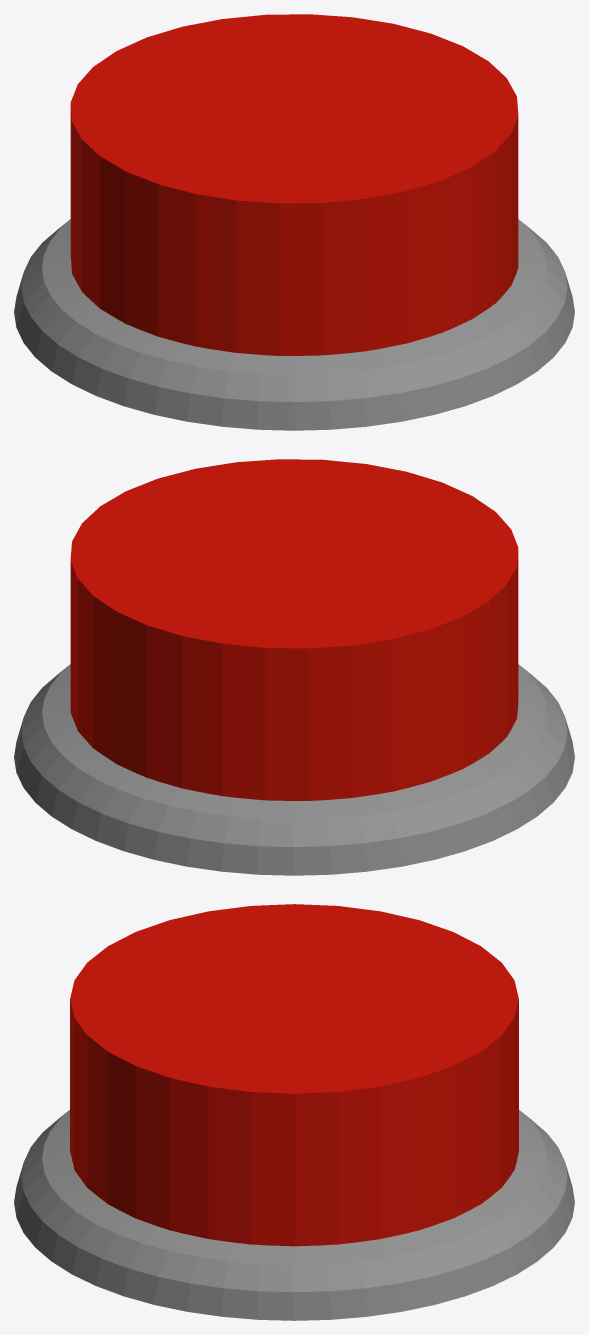
Rendered from Button.fbx.
The picture shows the model from 3 angles, top to bottom: view 1: azimuth 30°, elevation 25°; view 2: azimuth 150°, elevation 25°; view 3: azimuth 270°, elevation 25°; orthographic projection.
Parts seen in each view (by area): view 1: Cylinder, Torus; view 2: Cylinder, Torus; view 3: Cylinder, Torus.
Part boxes in pixels (x1,y1,x2,y2): Cylinder: [70, 14, 518, 355]; Torus: [14, 219, 574, 430]; Cylinder: [70, 459, 518, 800]; Torus: [14, 664, 574, 875]; Cylinder: [70, 904, 518, 1246]; Torus: [14, 1110, 574, 1320].
Size of the model in its own units: 2.5 by 1 by 2.5.
